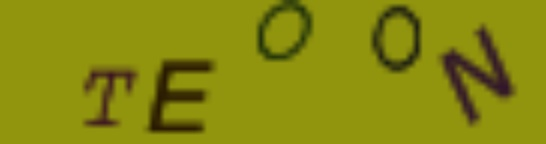E: (149, 54, 222, 138)
N: (439, 22, 519, 127)
O: (370, 1, 428, 73), (251, 1, 316, 62)
T: (79, 65, 139, 131)
